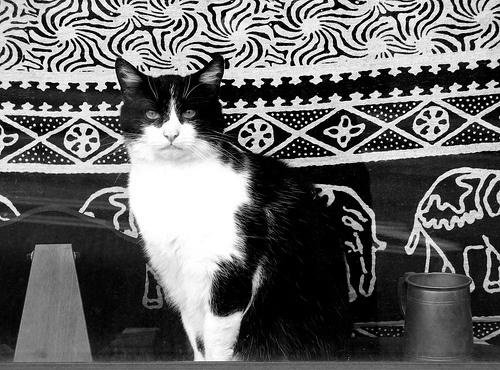cat: (111, 53, 364, 366)
